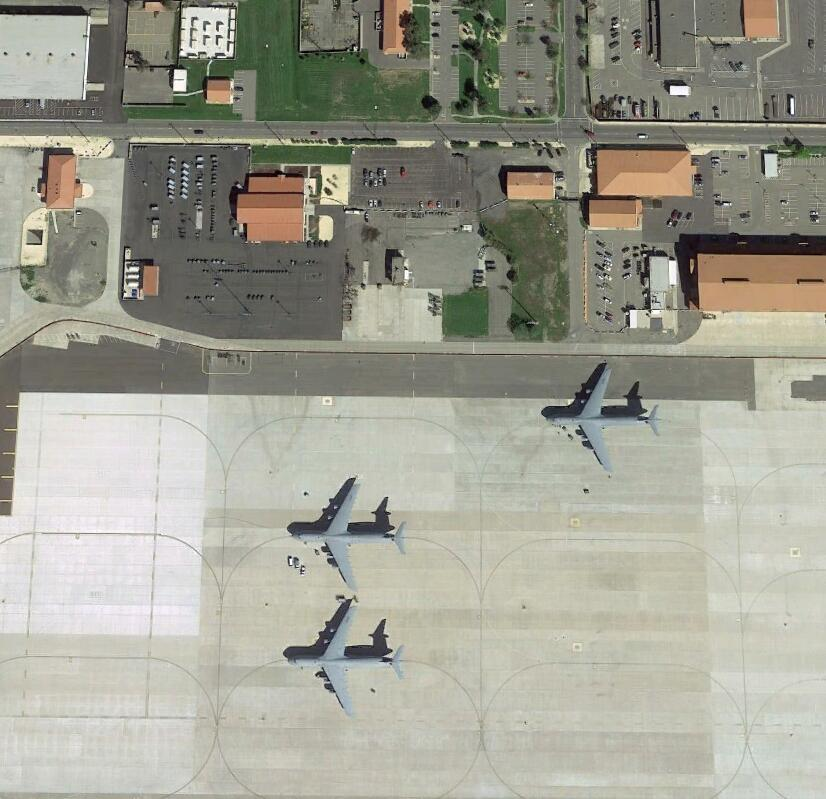A4: (285, 603, 406, 713), (289, 478, 407, 588), (543, 364, 661, 473)
